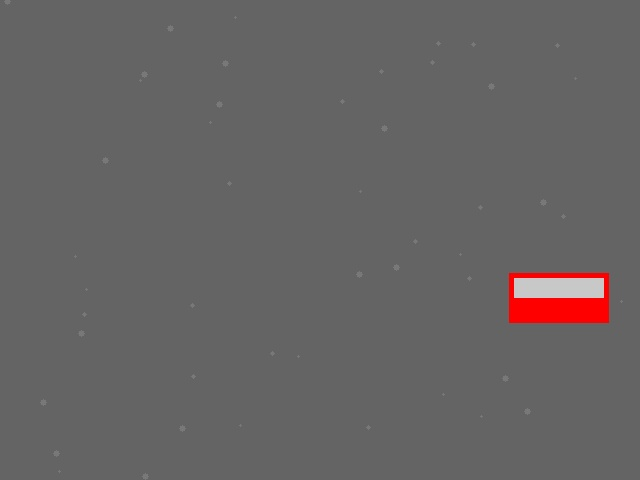car: (509, 273, 608, 322)
